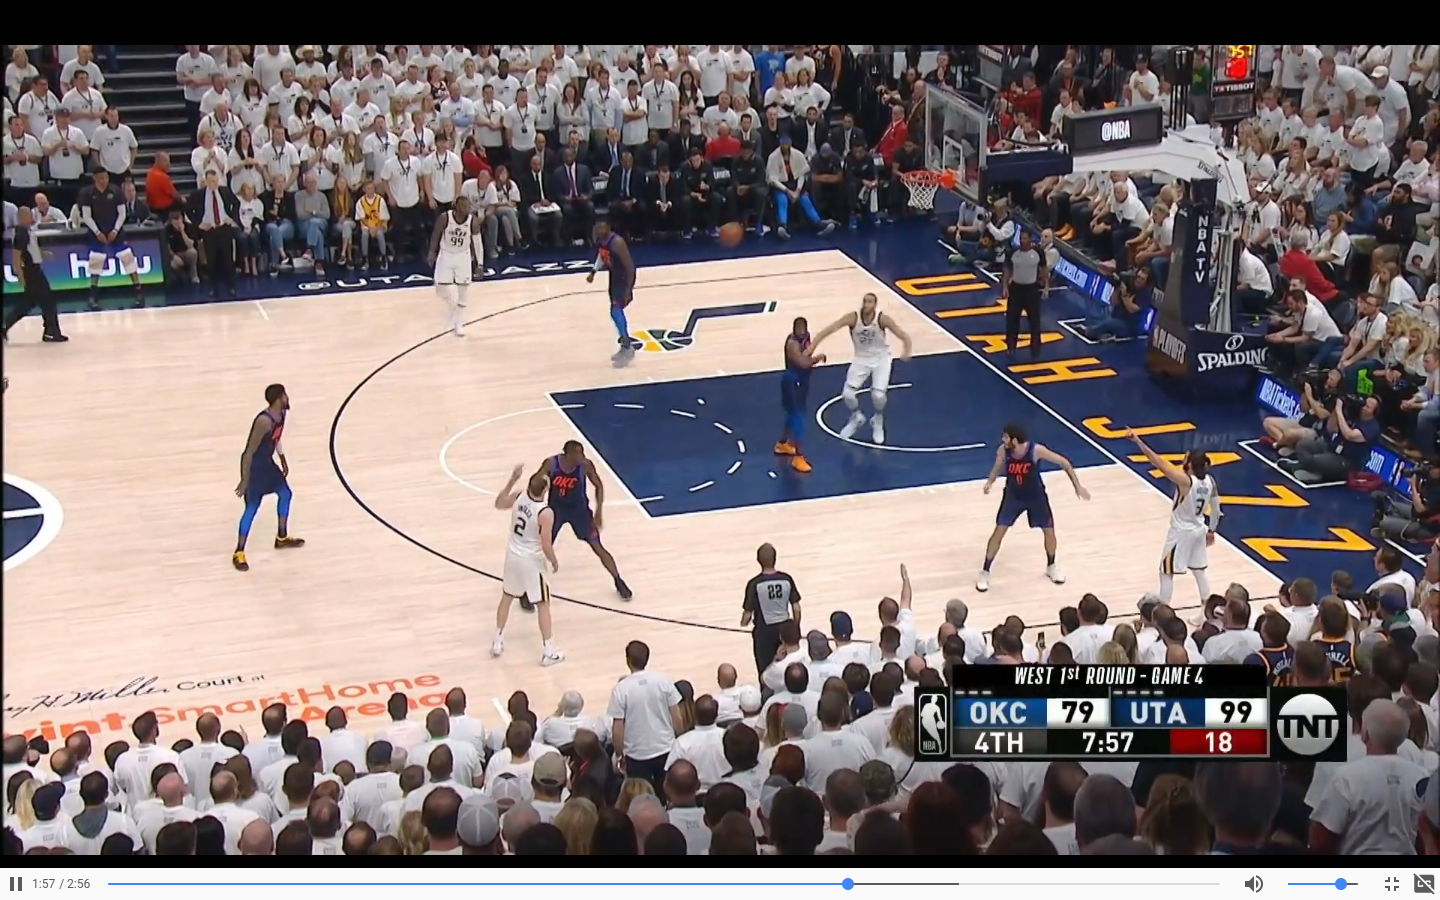basketball: (713, 214, 745, 254)
basketball player: (972, 425, 1073, 600), (1132, 422, 1228, 605), (227, 383, 308, 571), (495, 465, 567, 666), (828, 291, 907, 459), (555, 431, 622, 597), (427, 191, 492, 337), (768, 309, 822, 480), (587, 211, 641, 374)
referee: (1, 196, 76, 348), (730, 539, 810, 668), (996, 225, 1052, 354)
